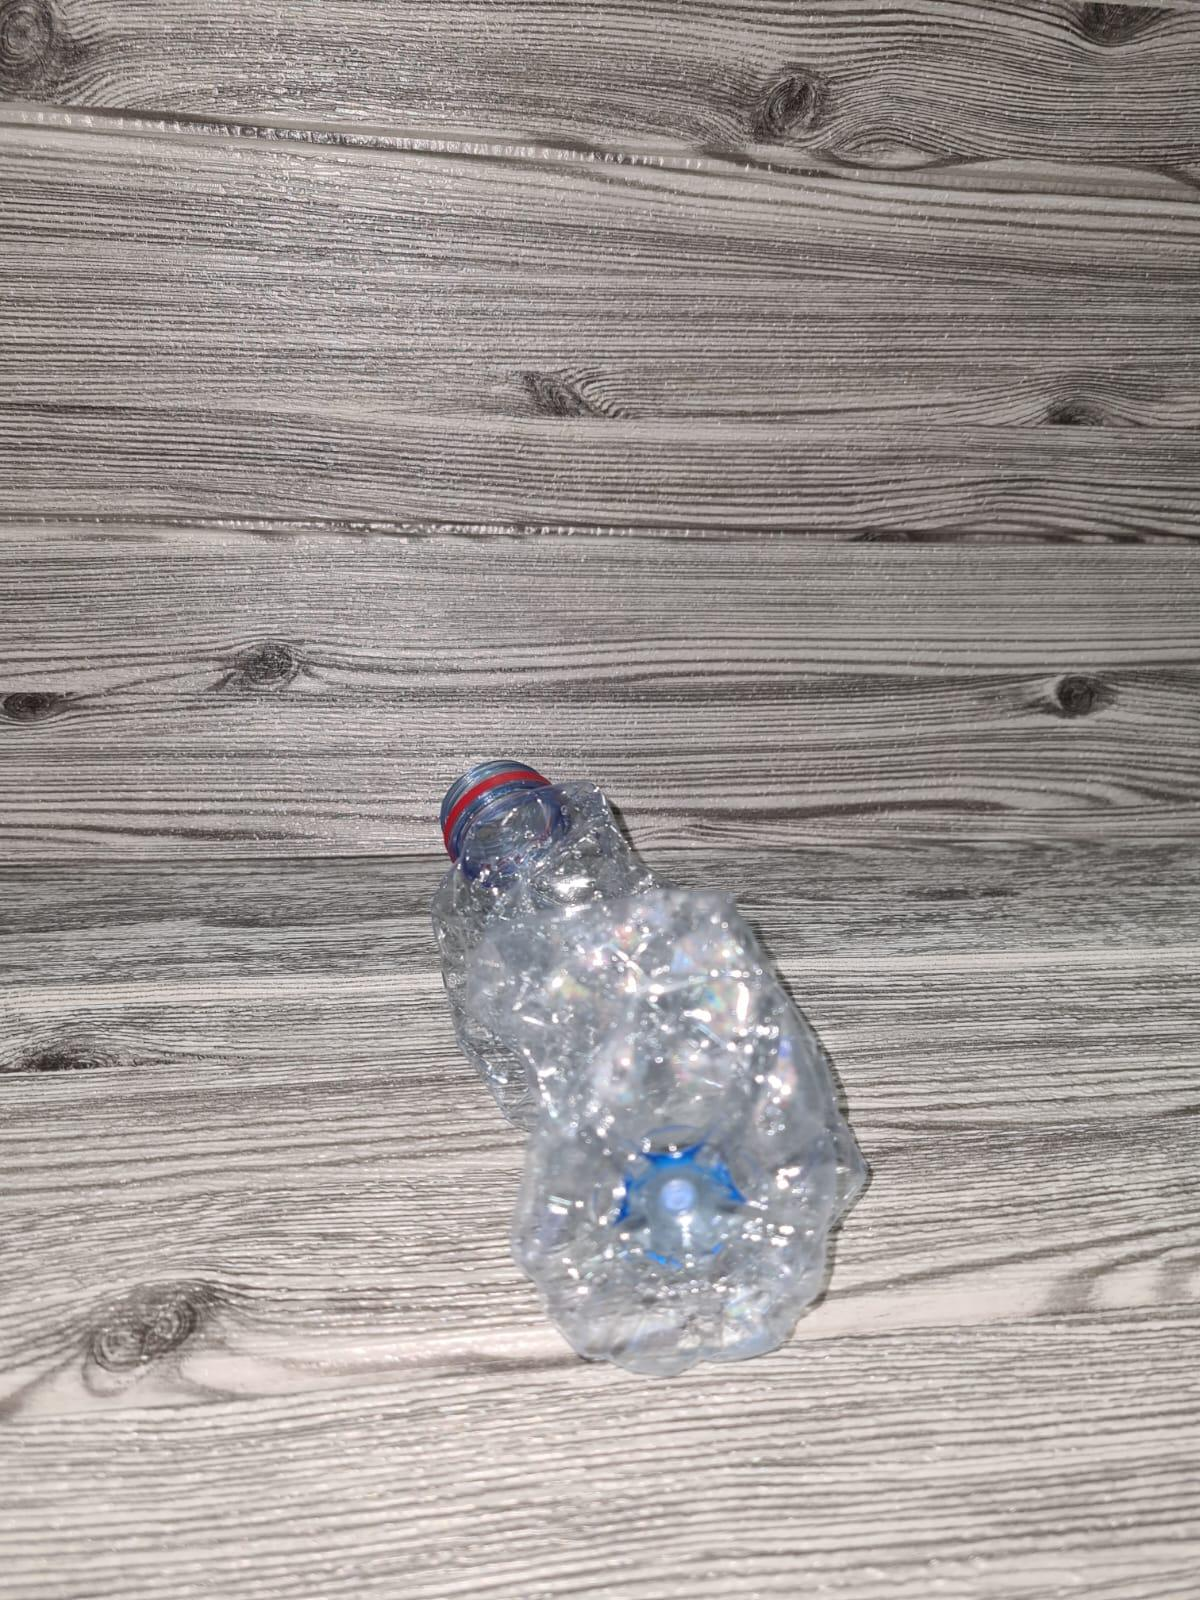bottle: (431, 741, 886, 1374)
